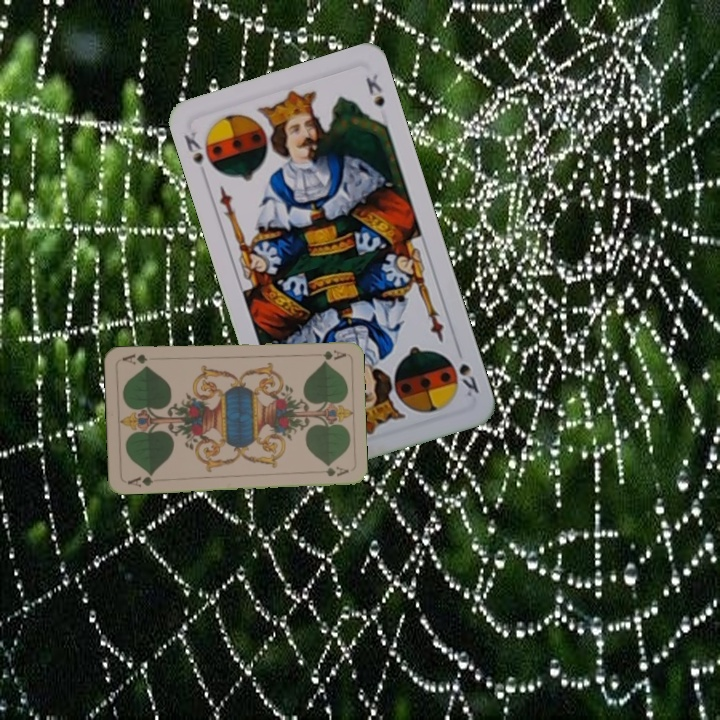GA: (124, 469, 163, 489), (307, 346, 348, 362)
SK: (180, 128, 219, 182), (445, 353, 482, 399)
